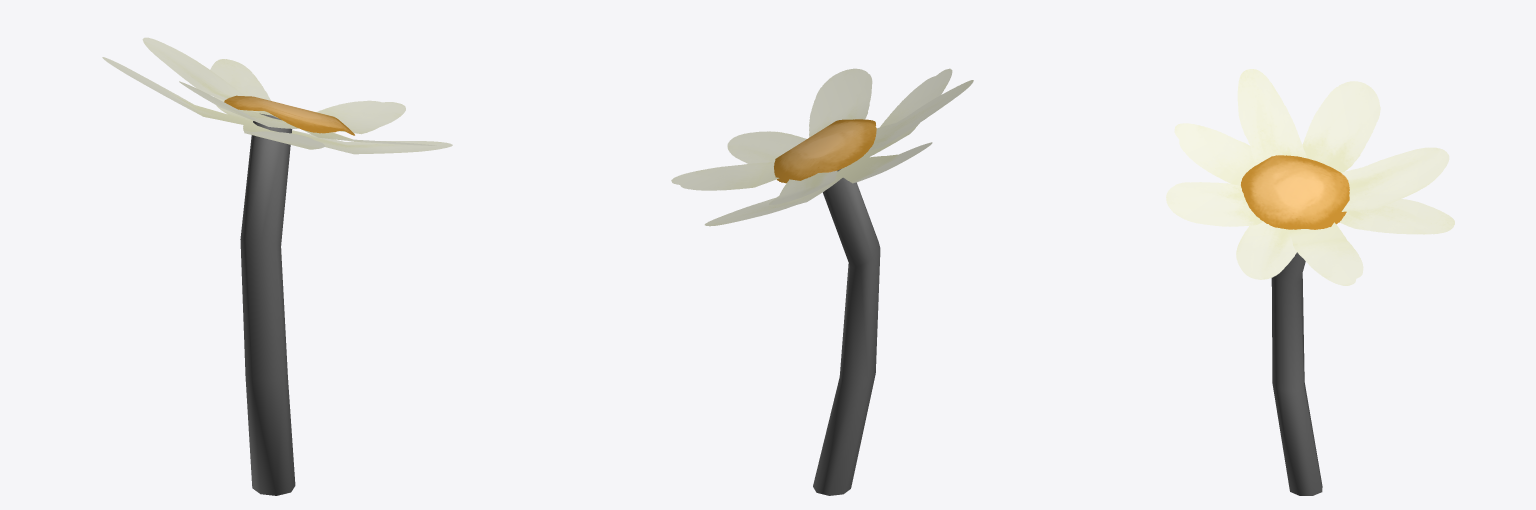
Rendered from Flower1_Foliage_LOD.fbx.
3 renders of one model, left to right at view 1: azimuth 30°, elevation 25°; view 2: azimuth 150°, elevation 25°; view 3: azimuth 270°, elevation 25°, orthographic. The views are drawn at different scales.
Parts seen in each view (by area): view 1: Flower1_Foliage_LOD0; view 2: Flower1_Foliage_LOD0; view 3: Flower1_Foliage_LOD0.
Part boxes in pixels (bbox=[...]): Flower1_Foliage_LOD0: bbox=[102, 37, 452, 495]; Flower1_Foliage_LOD0: bbox=[671, 68, 973, 495]; Flower1_Foliage_LOD0: bbox=[1166, 69, 1454, 495].
Size of what is drawn, in the model's own units: 115 by 124 by 124.
